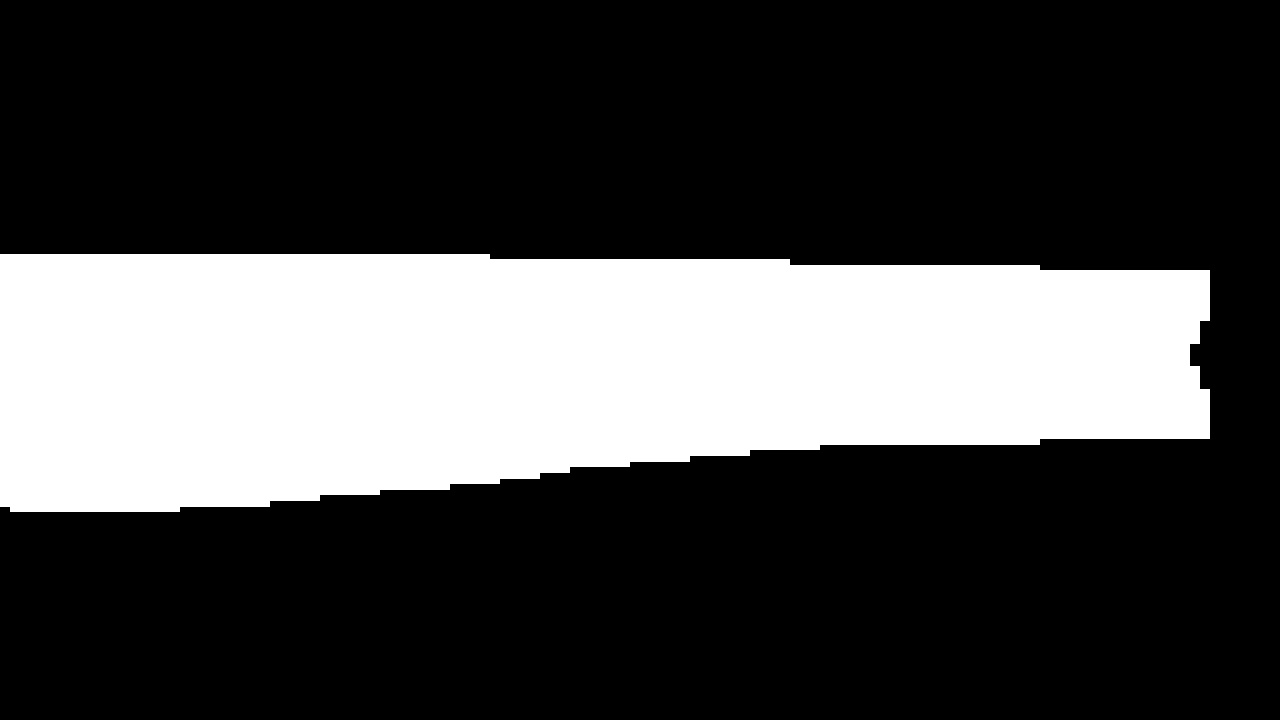Turbine: (8, 242, 1237, 525)
